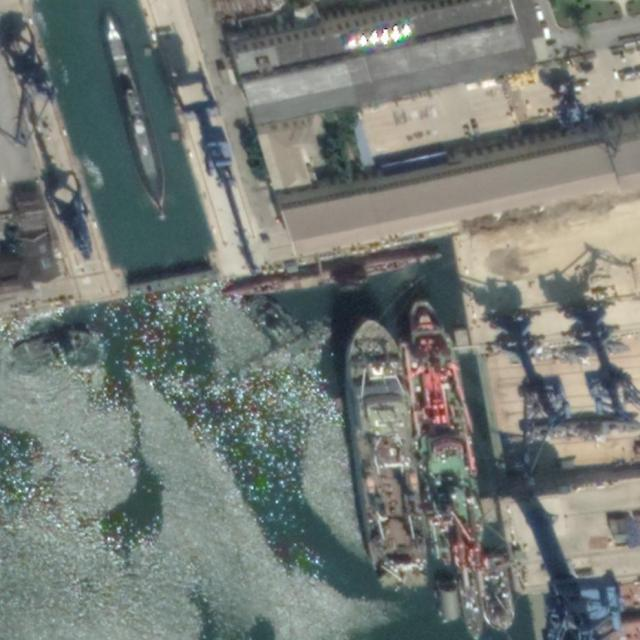Cargo: (343, 314, 431, 598), (400, 295, 488, 567)
Other Ship: (478, 560, 518, 633), (457, 562, 486, 639)
Submarine: (94, 7, 175, 230), (218, 242, 449, 311)
